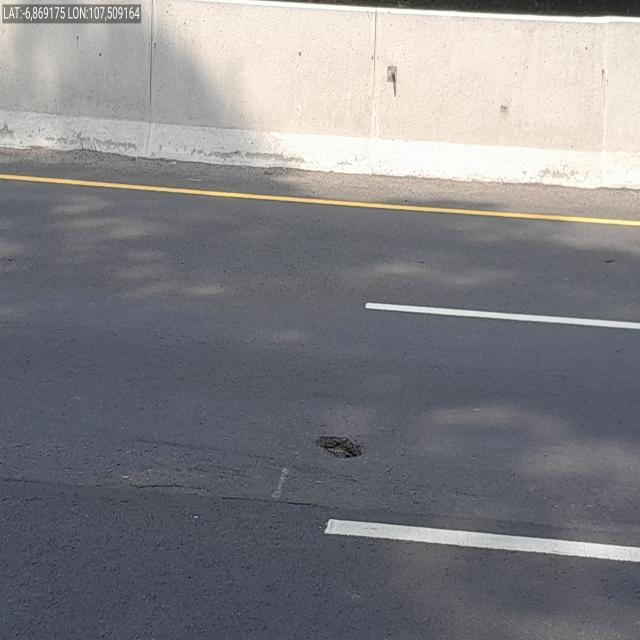Buraco: (309, 433, 368, 463)
